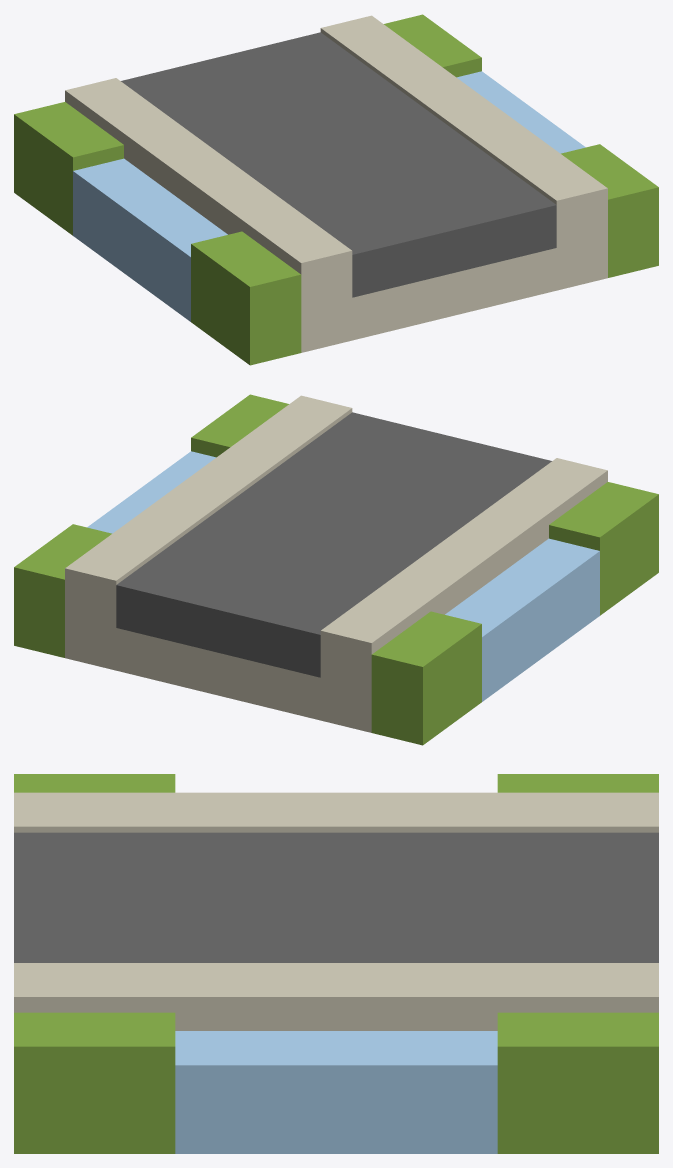
The model's file is roadTile_188.obj.
3 renders of one model, top to bottom at view 1: azimuth 30°, elevation 25°; view 2: azimuth 150°, elevation 25°; view 3: azimuth 270°, elevation 25°, orthographic. The views are drawn at different scales.
Visible parts, largest first — view 1: Mesh1_Group1_Model.187; view 2: Mesh1_Group1_Model.187; view 3: Mesh1_Group1_Model.187.
Boxes of the visible parts, x1,y1,x2,y2 form: Mesh1_Group1_Model.187: [14, 14, 658, 365]; Mesh1_Group1_Model.187: [14, 394, 658, 745]; Mesh1_Group1_Model.187: [14, 774, 658, 1153].
Bounding box in the file's own units: 3 × 0.63 × 3.
